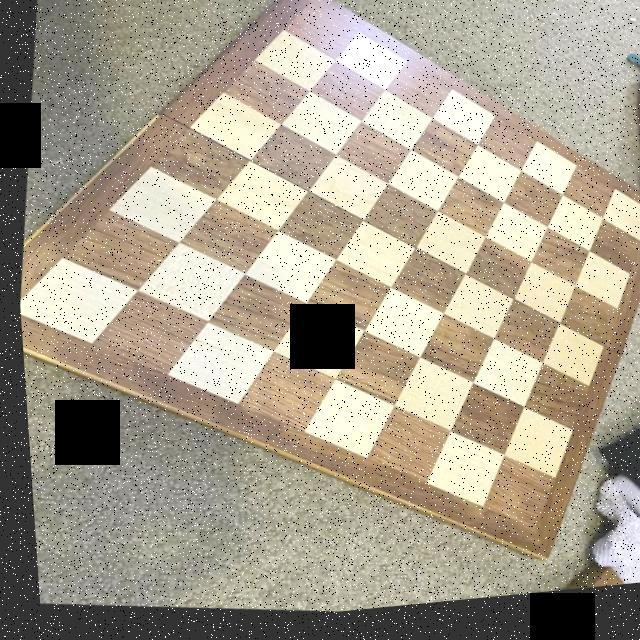chess-table-corners: (498, 507, 544, 551), (15, 281, 48, 326), (284, 0, 336, 27), (620, 204, 640, 242)
